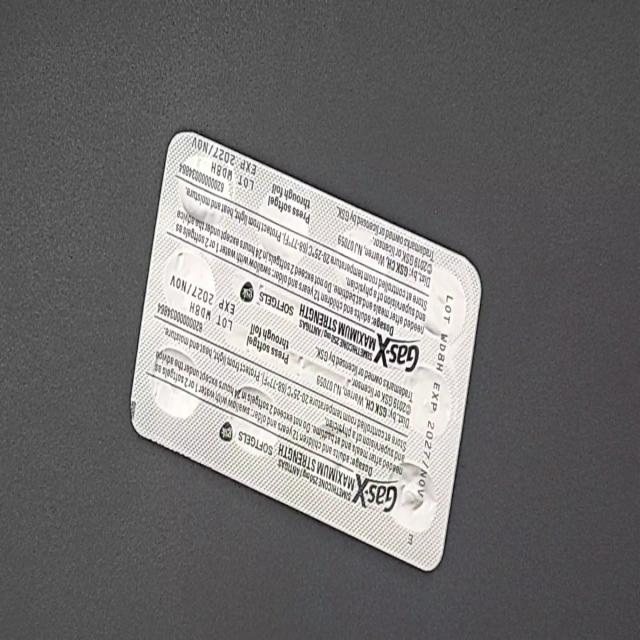no defect: (9, 13, 32, 56)
